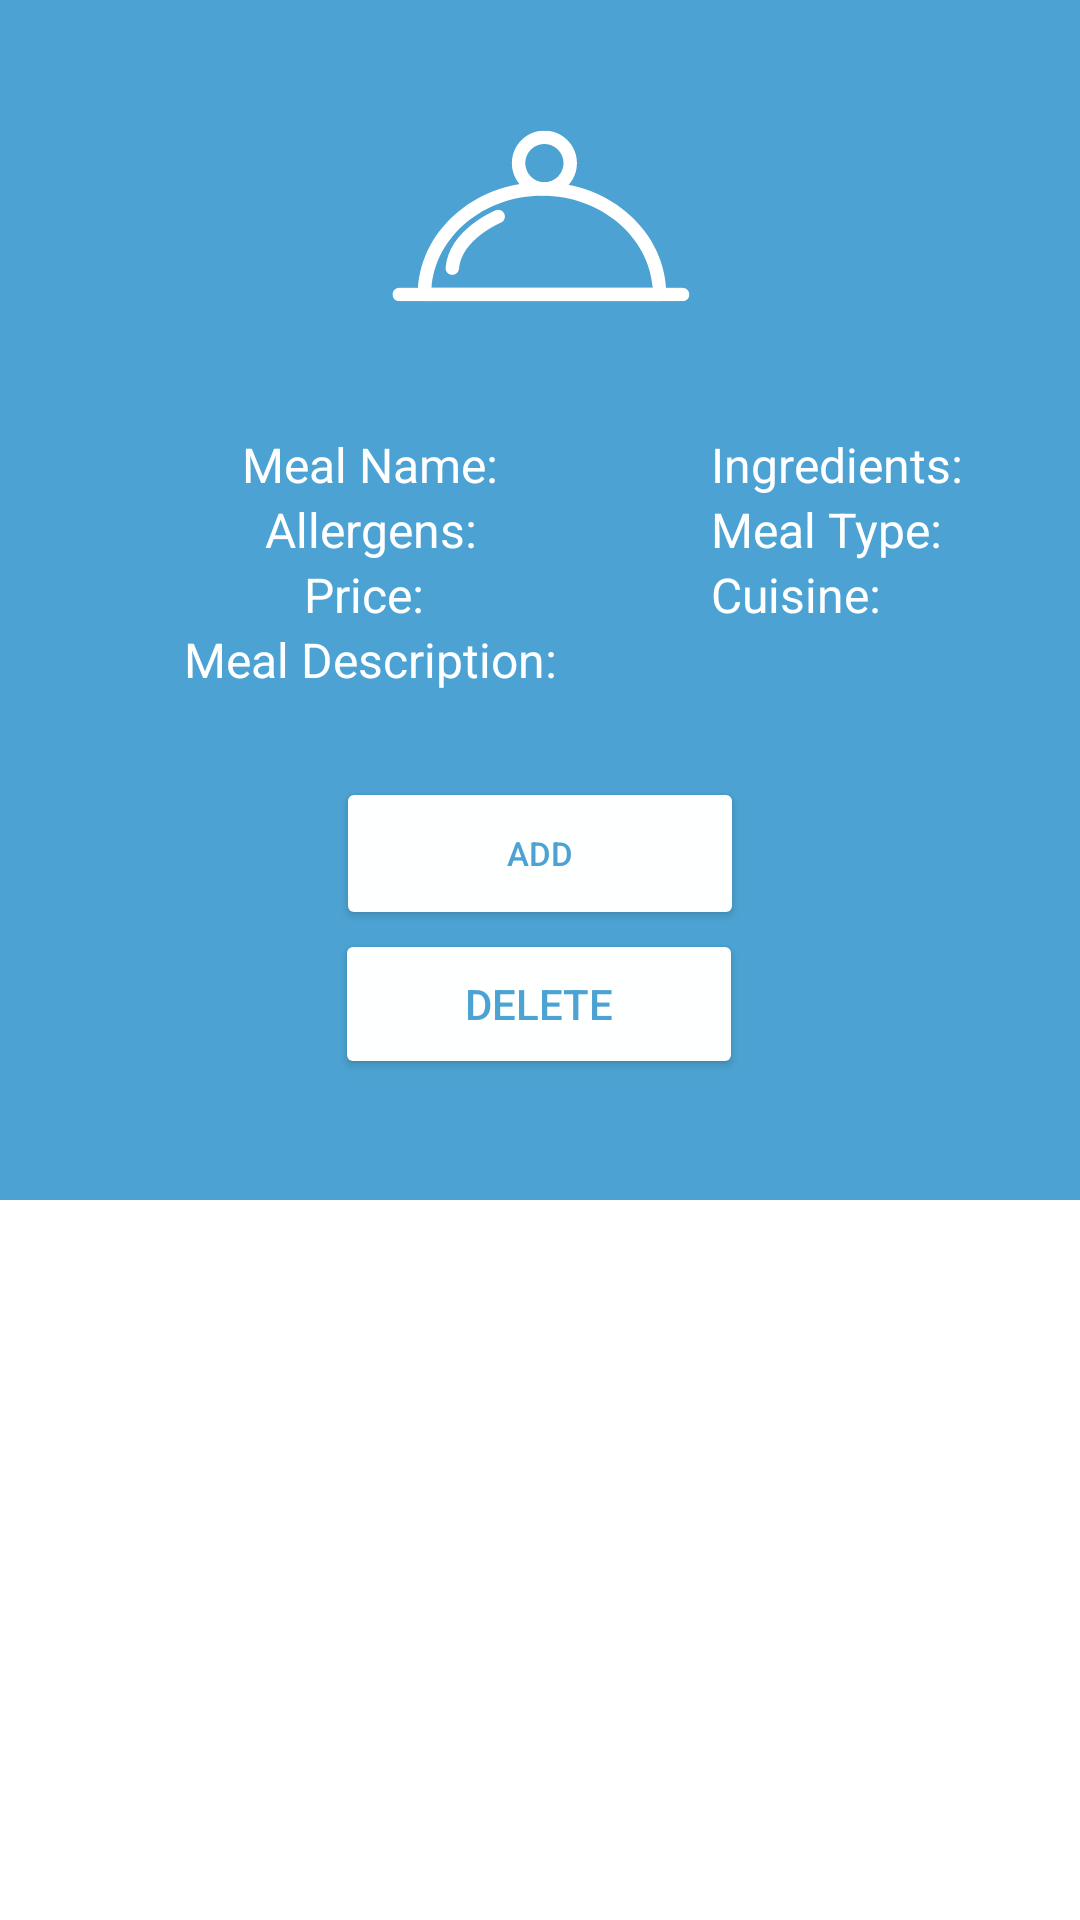

Icon click points for this 1080 x 1920 phone screenshot, format (x=x, y=y):
food platter: (x=540, y=216)
